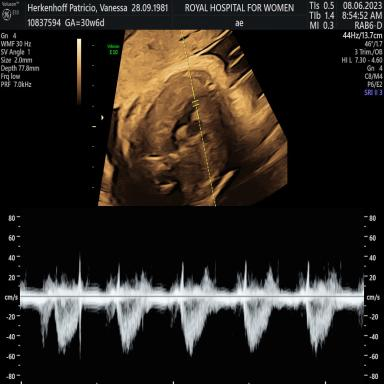Ultrasound-Waves: (23, 218, 363, 380)
